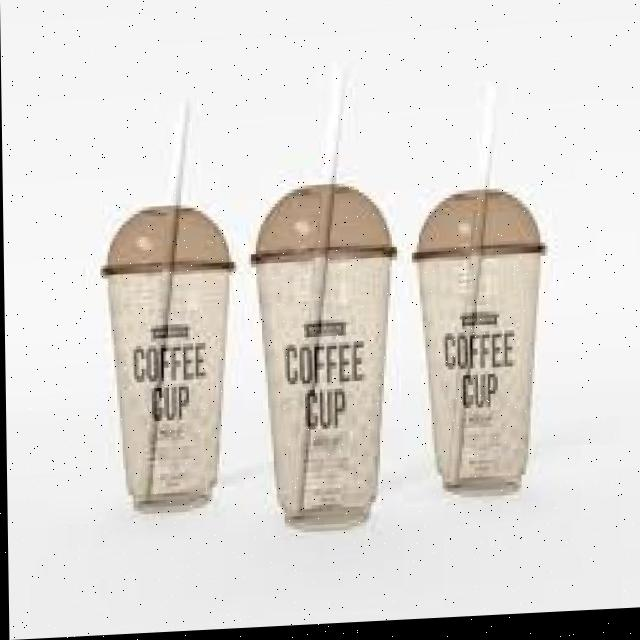cup: (256, 262, 389, 530), (418, 259, 540, 494), (108, 274, 228, 507)
